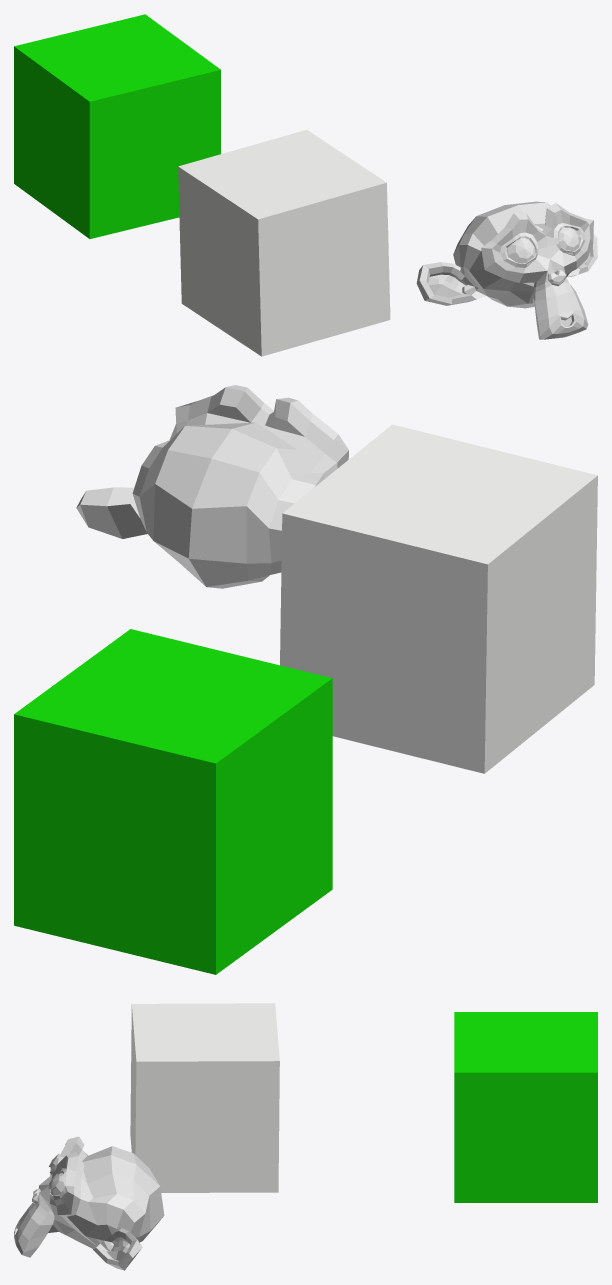
Rendered from test1_cubes3_4.5.glb.
3 renders of one model, top to bottom at view 1: azimuth 30°, elevation 25°; view 2: azimuth 150°, elevation 25°; view 3: azimuth 270°, elevation 25°, orthographic. The views are drawn at different scales.
Parts seen in each view (by area): view 1: CubeL, CubeR, Suzanne; view 2: CubeR, CubeL, Suzanne; view 3: CubeR, CubeL, Suzanne.
Part boxes in pixels (bbox=[...]): CubeL: bbox=[178, 129, 390, 356]; CubeR: bbox=[14, 14, 220, 238]; Suzanne: bbox=[416, 201, 597, 339]; CubeR: bbox=[14, 629, 332, 974]; CubeL: bbox=[280, 424, 597, 773]; Suzanne: bbox=[76, 385, 348, 588]; CubeR: bbox=[454, 1012, 597, 1202]; CubeL: bbox=[130, 1003, 279, 1192]; Suzanne: bbox=[14, 1136, 164, 1270].
Size of what is drawn, in the model's own units: 5.22 by 2.15 by 8.14.
